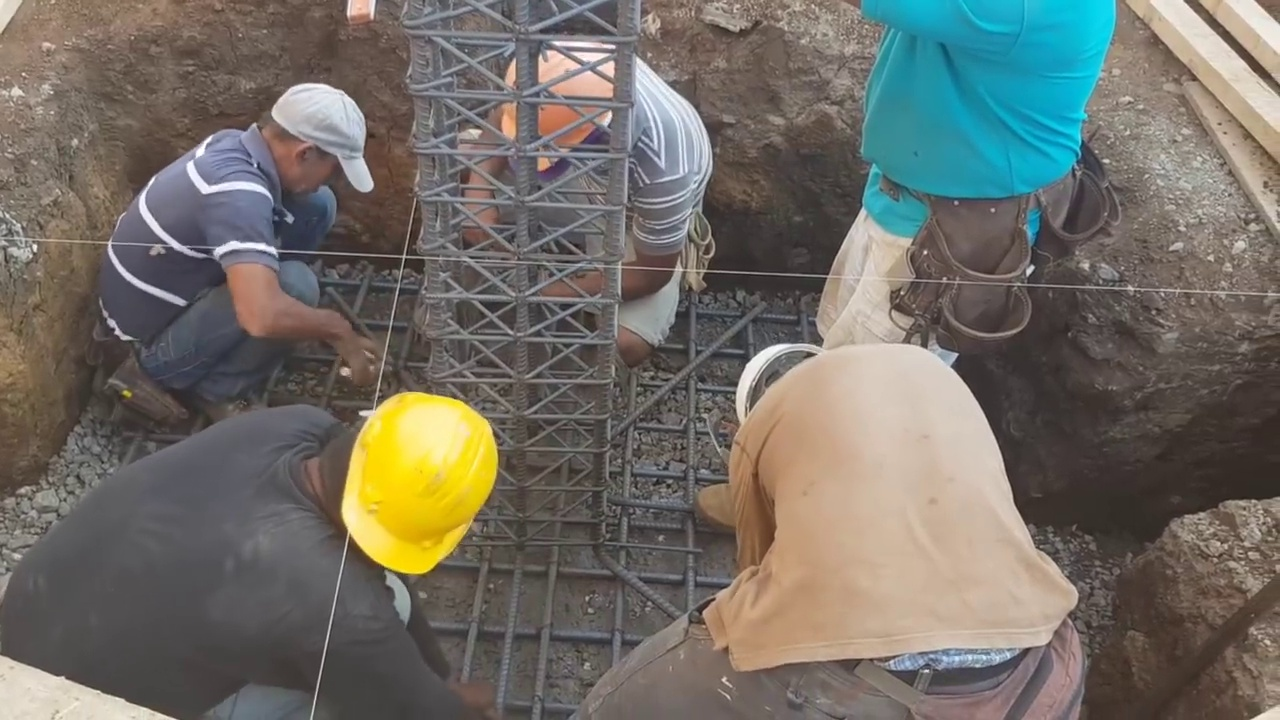helmet: (344, 388, 493, 574), (478, 53, 609, 159)
helmet-off: (265, 77, 372, 200)
helmet-on: (317, 391, 496, 585), (488, 40, 622, 182), (739, 346, 818, 453)
person: (605, 326, 1101, 720), (0, 384, 542, 715), (807, 0, 1125, 352), (91, 65, 393, 425), (459, 21, 713, 405)
